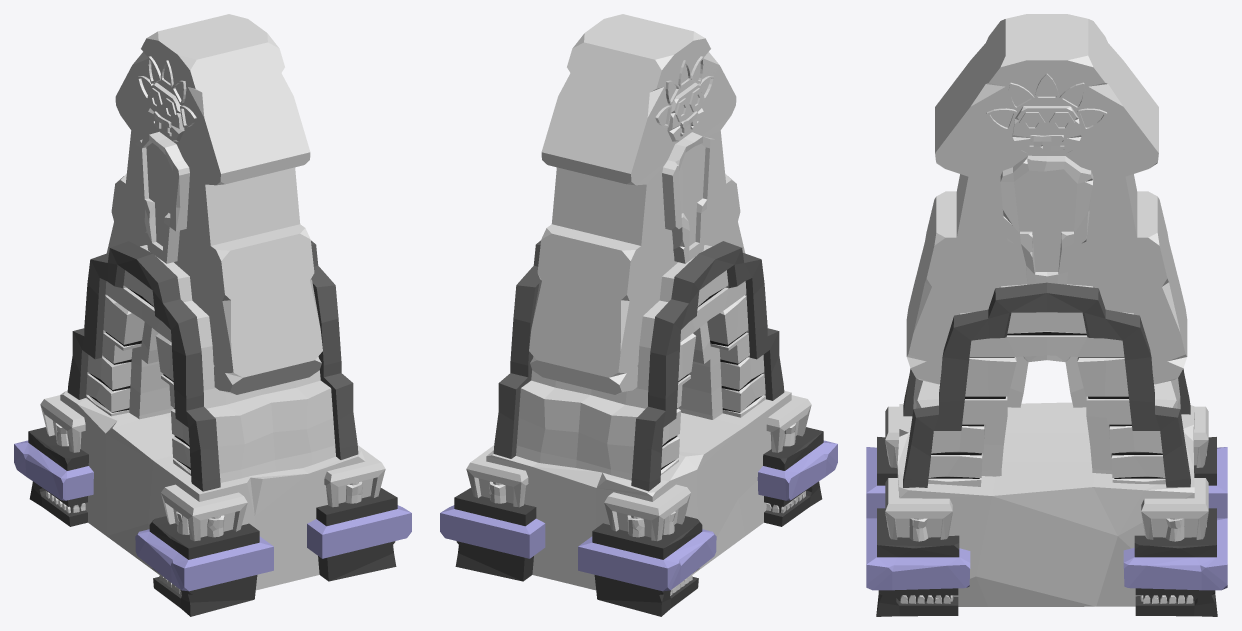
The model's file is Aztec Monument 1.fbx.
3 renders of one model, left to right at view 1: azimuth 30°, elevation 25°; view 2: azimuth 150°, elevation 25°; view 3: azimuth 270°, elevation 25°, orthographic. The views are drawn at different scales.
Visible parts, largest first — view 1: Aztec Monument; view 2: Aztec Monument; view 3: Aztec Monument.
Boxes of the visible parts, left/top/right/bottom form: Aztec Monument: left=14, top=14, right=411, bottom=616; Aztec Monument: left=440, top=14, right=837, bottom=616; Aztec Monument: left=866, top=14, right=1227, bottom=616.
Size of the model in its own units: 3.6 by 7.41 by 4.61.
